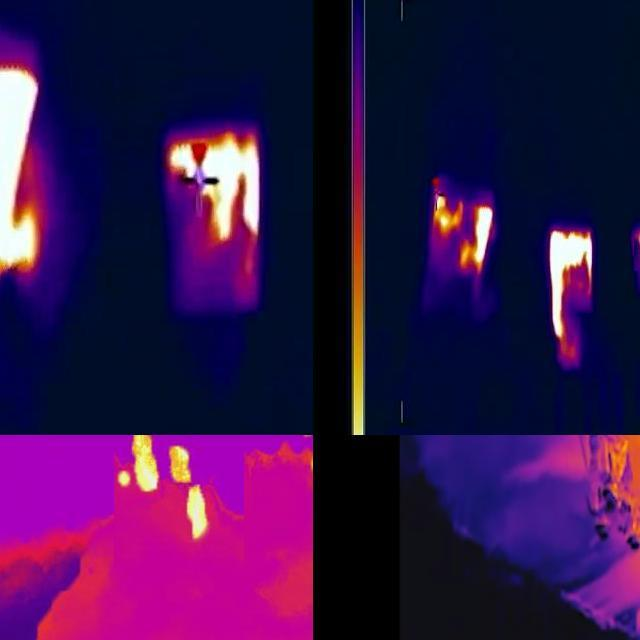fire: (165, 129, 261, 264), (114, 436, 218, 546), (1, 35, 38, 276), (546, 225, 593, 369), (429, 187, 494, 277), (634, 225, 640, 271)
